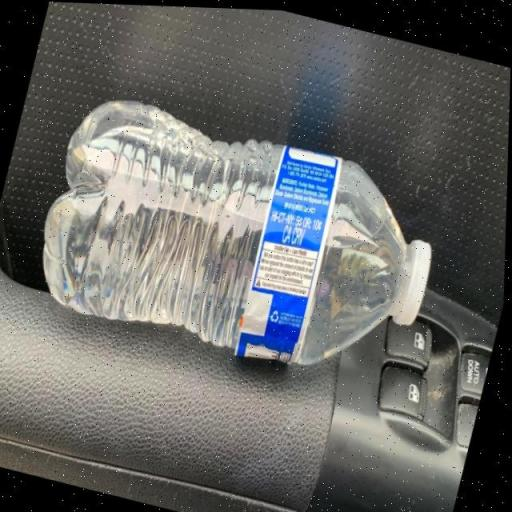plastic: (42, 99, 433, 366)
